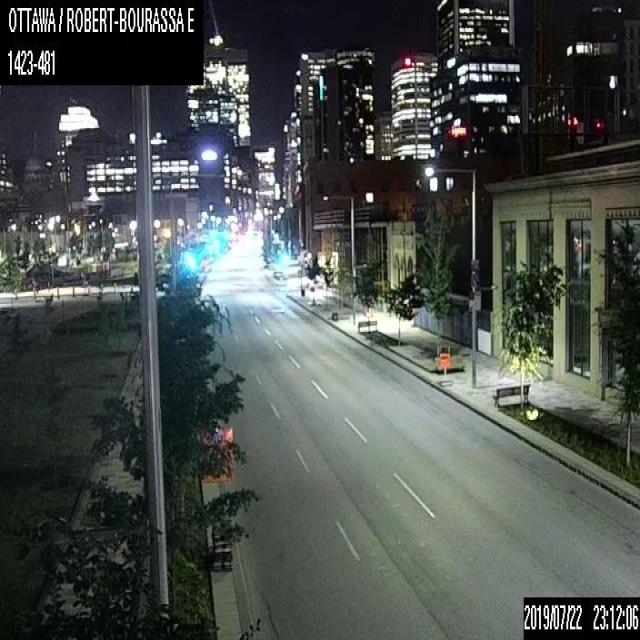construction: (201, 424, 233, 570), (438, 350, 450, 386)
